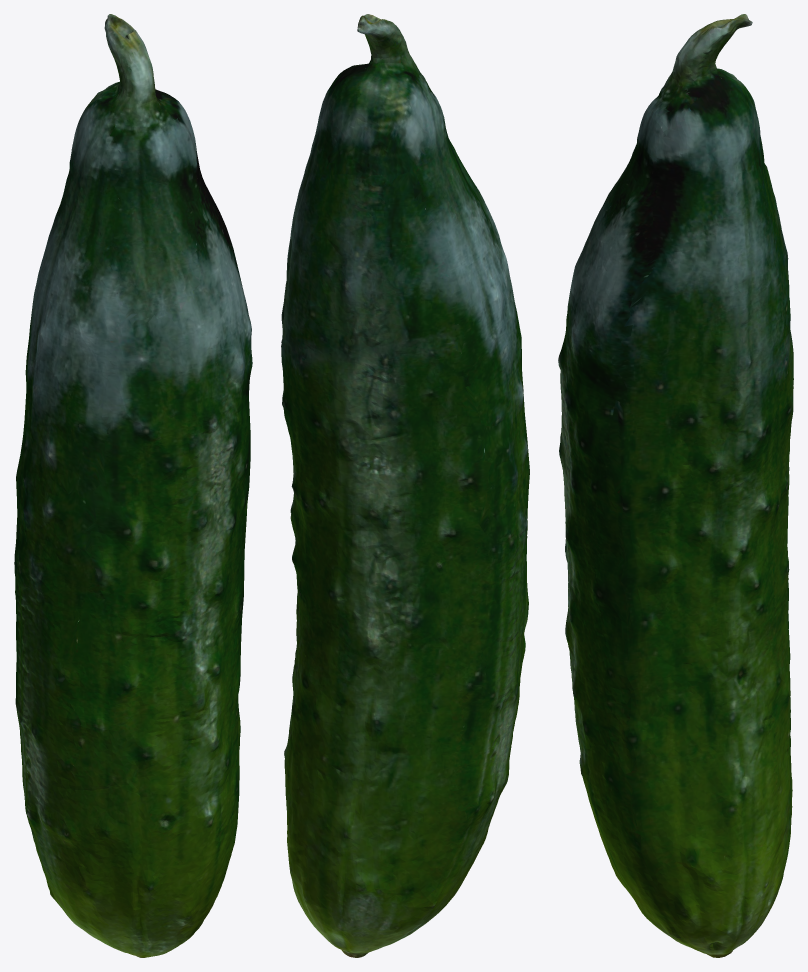
Rendered from Aligned.obj.
3 views of the same model, side by side, from view 1: azimuth 30°, elevation 25°; view 2: azimuth 150°, elevation 25°; view 3: azimuth 270°, elevation 25° (orthographic). The views are drawn at different scales.
Visible parts, largest first — view 1: huanggua; view 2: huanggua; view 3: huanggua.
Boxes of the visible parts, bbox=[...] form: huanggua: bbox=[14, 14, 252, 957]; huanggua: bbox=[281, 14, 529, 957]; huanggua: bbox=[558, 14, 793, 957].
Bounding box in the file's own units: 41.24 × 179 × 40.99.
